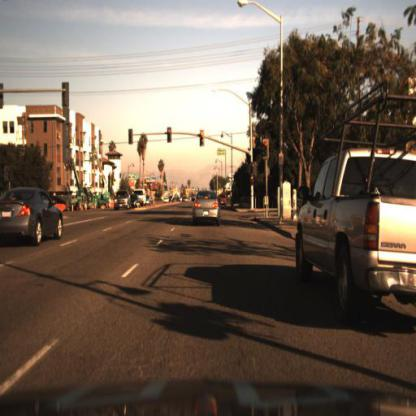car: (294, 137, 416, 318), (1, 183, 63, 249), (193, 189, 222, 227), (114, 190, 133, 212), (140, 186, 146, 210)
trafficLight: (197, 126, 207, 149)
trafficLight-Red: (263, 138, 271, 167), (165, 126, 173, 147), (251, 158, 259, 175)
